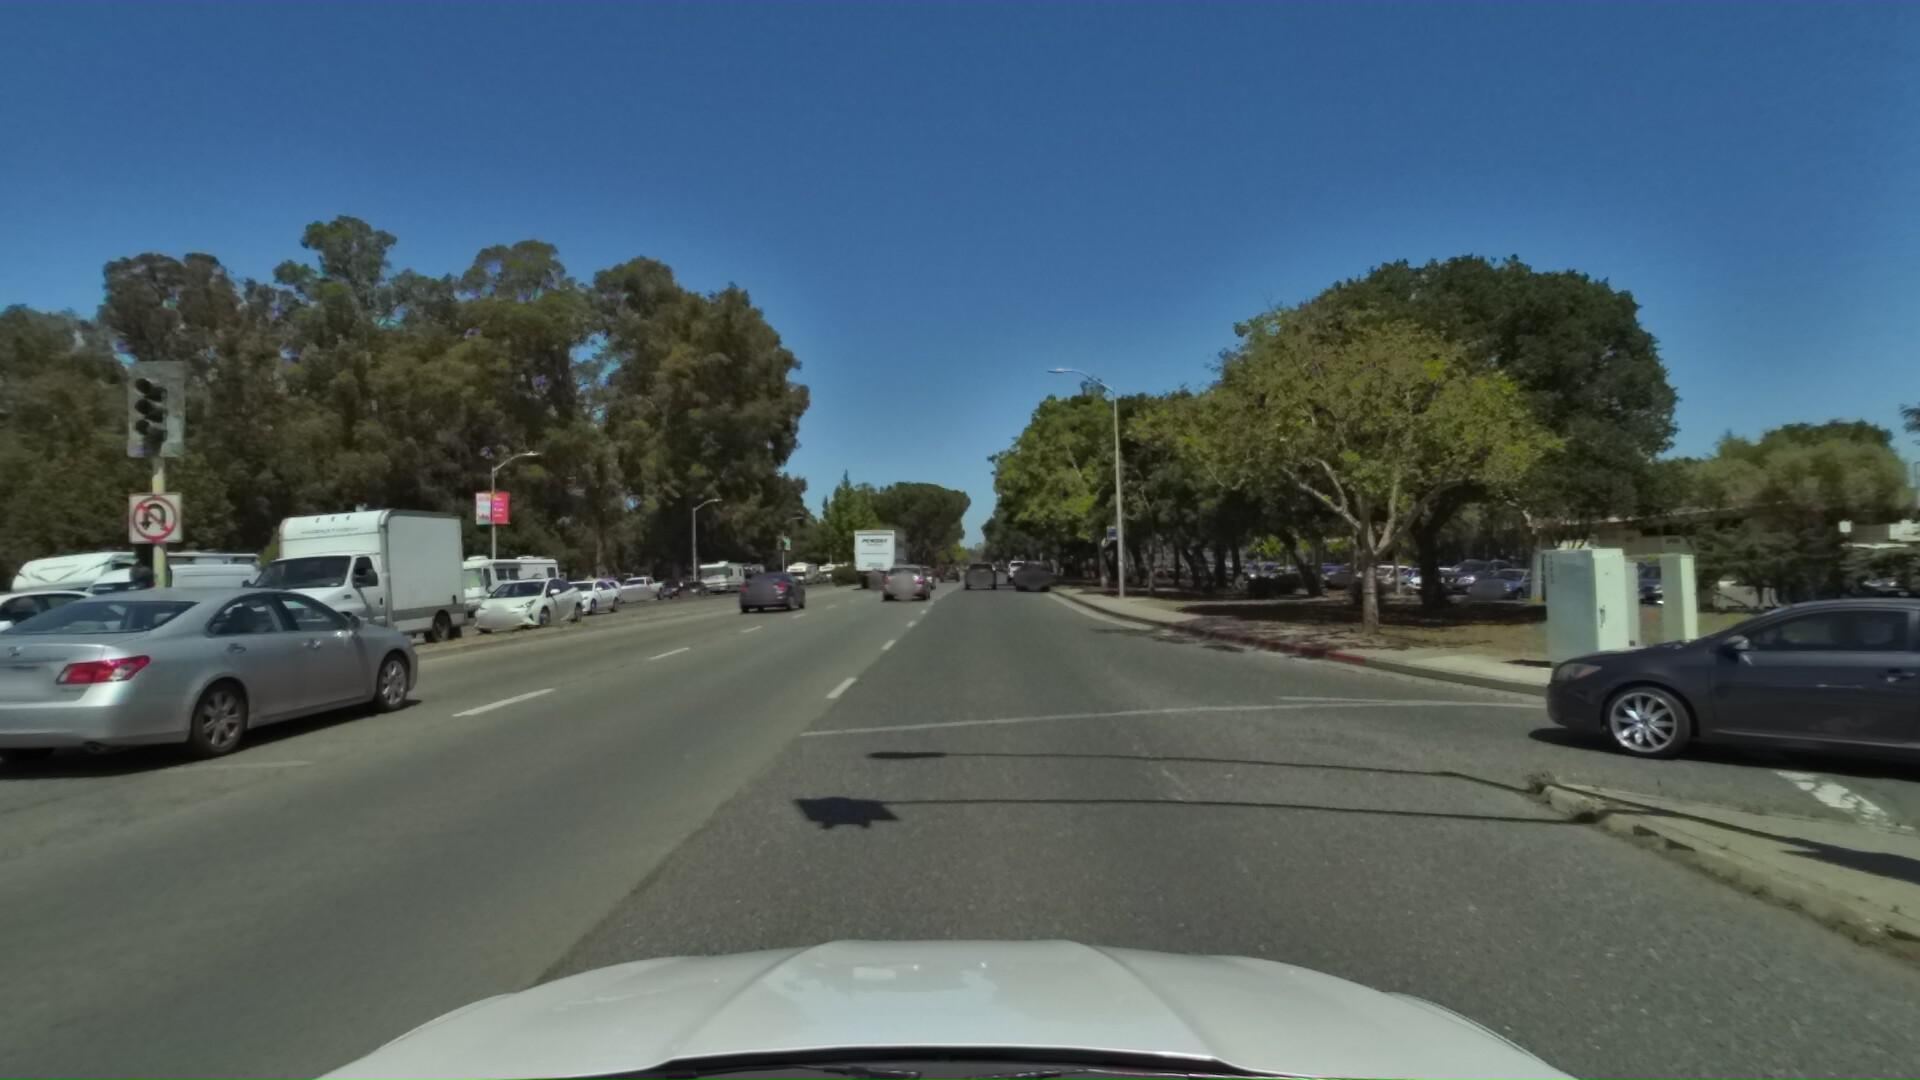car: (1513, 579, 1920, 855), (0, 579, 443, 815), (0, 583, 161, 766), (22, 564, 241, 662), (450, 574, 583, 642), (522, 575, 615, 626), (737, 568, 812, 615), (877, 564, 932, 607), (566, 574, 621, 609), (1009, 556, 1059, 593), (612, 574, 663, 604), (957, 559, 996, 593), (1000, 556, 1033, 585), (907, 564, 942, 591), (655, 585, 691, 607)
other_vehicle: (0, 542, 276, 674), (407, 549, 568, 629)
truck: (166, 493, 465, 680), (847, 524, 907, 588)
